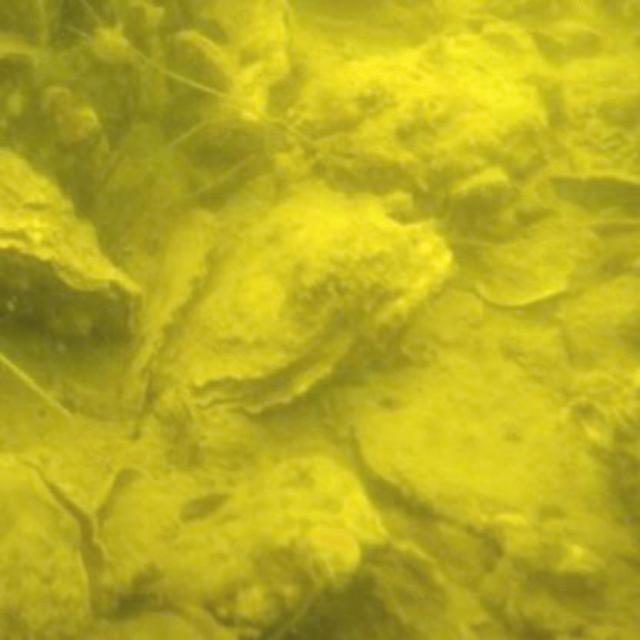Oyster-Closed: (294, 23, 558, 213), (0, 147, 140, 346)
Oyster-Open: (192, 206, 454, 420), (149, 454, 379, 640), (0, 442, 118, 640)
